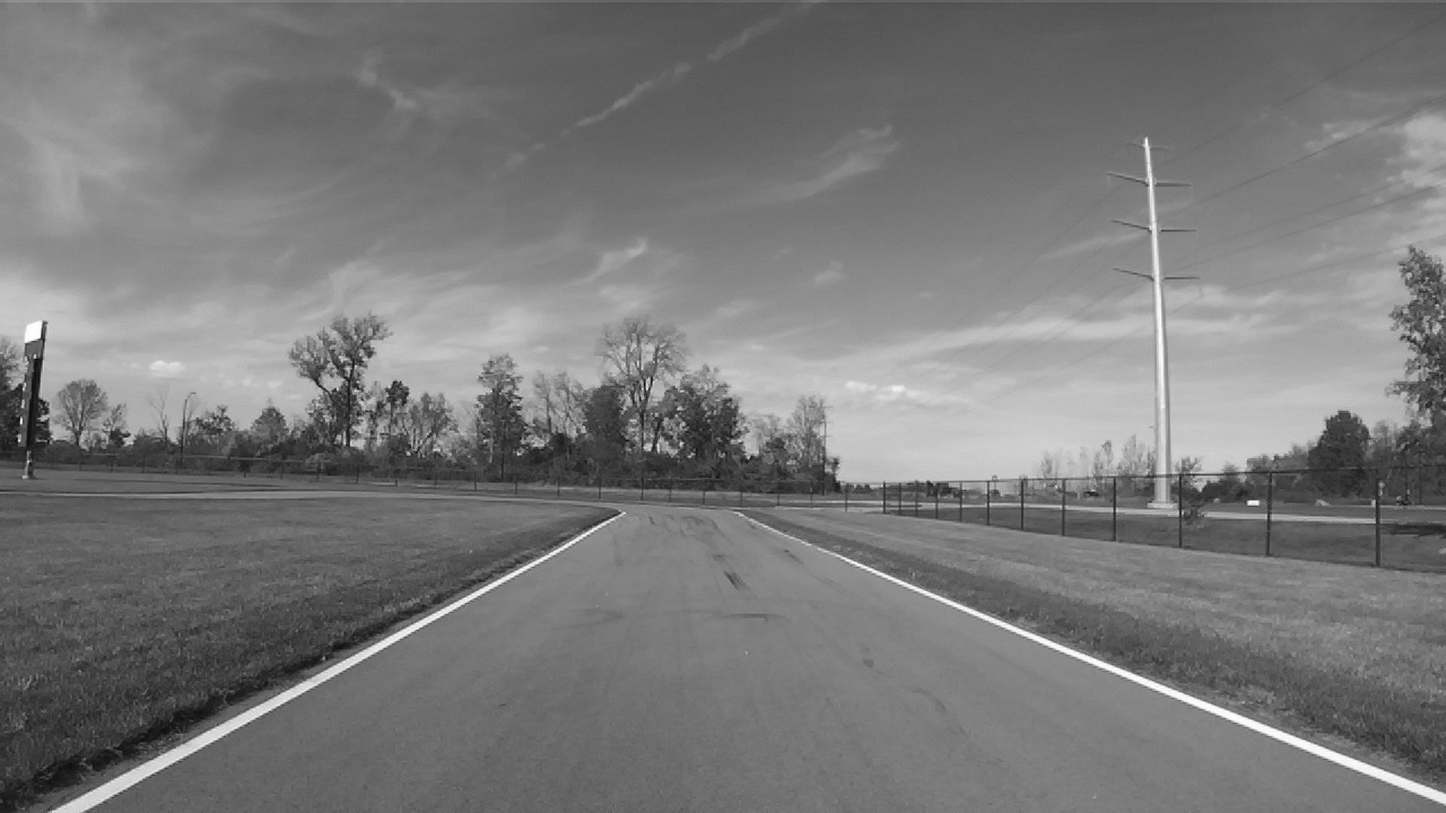white-line: (47, 512, 625, 812), (817, 547, 1445, 805), (734, 512, 815, 547)
